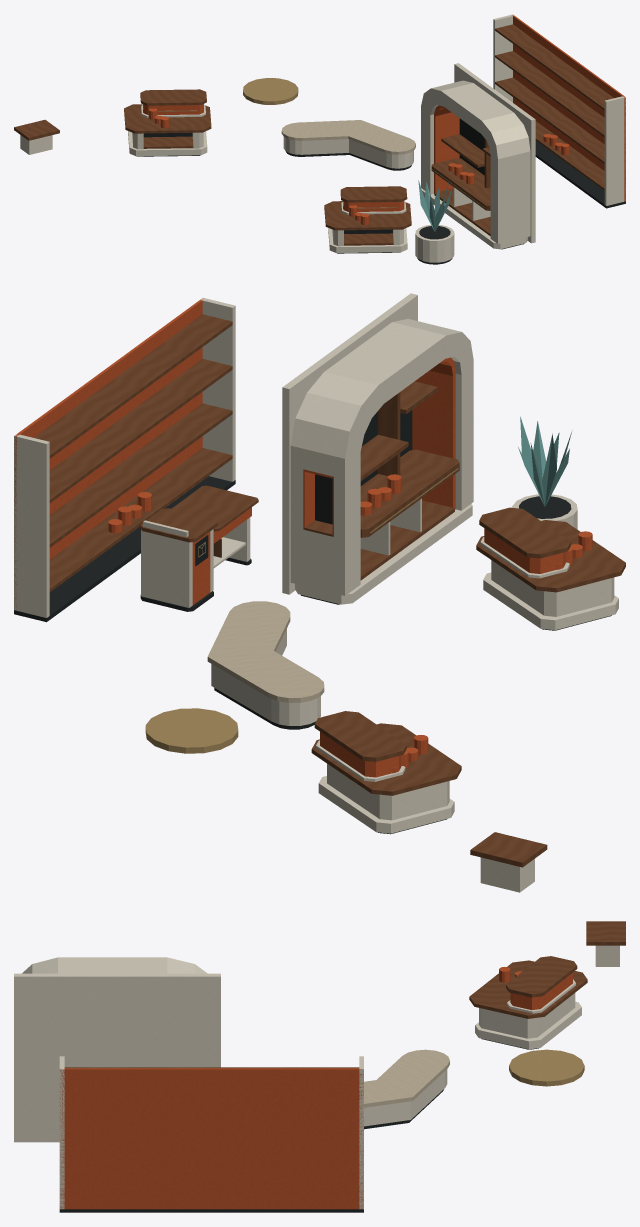
Rendered from SHOP_D09_S100_A132__fitout.glb.
The picture shows the model from 3 angles, top to bottom: view 1: azimuth 30°, elevation 25°; view 2: azimuth 150°, elevation 25°; view 3: azimuth 270°, elevation 25°; orthographic projection. The views are drawn at different scales.
Visible parts, largest first — view 1: SHOP_D09_S100_A132__fitout__ivory_enamel, SHOP_D09_S100_A132__fitout__warm_walnut, SHOP_D09_S100_A132__fitout__retail_terracotta_enamel, SHOP_D09_S100_A132__fitout__dark_rubber, SHOP_D09_S100_A132__fitout__oatmeal_weave, SHOP_D09_S100_A132__fitout__champagne_metal, SHOP_D09_S100_A132__fitout__quiet_teal; view 2: SHOP_D09_S100_A132__fitout__ivory_enamel, SHOP_D09_S100_A132__fitout__warm_walnut, SHOP_D09_S100_A132__fitout__retail_terracotta_enamel, SHOP_D09_S100_A132__fitout__dark_rubber, SHOP_D09_S100_A132__fitout__oatmeal_weave, SHOP_D09_S100_A132__fitout__champagne_metal, SHOP_D09_S100_A132__fitout__quiet_teal; view 3: SHOP_D09_S100_A132__fitout__retail_terracotta_enamel, SHOP_D09_S100_A132__fitout__ivory_enamel, SHOP_D09_S100_A132__fitout__warm_walnut, SHOP_D09_S100_A132__fitout__oatmeal_weave, SHOP_D09_S100_A132__fitout__champagne_metal, SHOP_D09_S100_A132__fitout__dark_rubber.
Part boxes in pixels (left/top/right/bottom): SHOP_D09_S100_A132__fitout__ivory_enamel: left=20, top=14, right=625, bottom=262; SHOP_D09_S100_A132__fitout__warm_walnut: left=14, top=24, right=613, bottom=245; SHOP_D09_S100_A132__fitout__retail_terracotta_enamel: left=143, top=15, right=625, bottom=225; SHOP_D09_S100_A132__fitout__dark_rubber: left=137, top=118, right=625, bottom=264; SHOP_D09_S100_A132__fitout__oatmeal_weave: left=281, top=120, right=415, bottom=154; SHOP_D09_S100_A132__fitout__champagne_metal: left=157, top=78, right=484, bottom=208; SHOP_D09_S100_A132__fitout__quiet_teal: left=418, top=180, right=451, bottom=231; SHOP_D09_S100_A132__fitout__ivory_enamel: left=14, top=293, right=618, bottom=892; SHOP_D09_S100_A132__fitout__warm_walnut: left=34, top=314, right=625, bottom=867; SHOP_D09_S100_A132__fitout__retail_terracotta_enamel: left=14, top=299, right=592, bottom=777; SHOP_D09_S100_A132__fitout__dark_rubber: left=14, top=410, right=611, bottom=834; SHOP_D09_S100_A132__fitout__oatmeal_weave: left=207, top=601, right=324, bottom=702; SHOP_D09_S100_A132__fitout__champagne_metal: left=145, top=468, right=458, bottom=753; SHOP_D09_S100_A132__fitout__quiet_teal: left=518, top=416, right=571, bottom=506; SHOP_D09_S100_A132__fitout__retail_terracotta_enamel: left=59, top=967, right=572, bottom=1209; SHOP_D09_S100_A132__fitout__ivory_enamel: left=14, top=945, right=619, bottom=1209; SHOP_D09_S100_A132__fitout__warm_walnut: left=64, top=921, right=625, bottom=1068; SHOP_D09_S100_A132__fitout__oatmeal_weave: left=364, top=1049, right=449, bottom=1107; SHOP_D09_S100_A132__fitout__champagne_metal: left=509, top=1049, right=584, bottom=1086; SHOP_D09_S100_A132__fitout__dark_rubber: left=59, top=1038, right=538, bottom=1212.
Bounding box in the file's own units: 10.25 × 3 × 10.05.
Materials: 7 (6 with a texture image).
